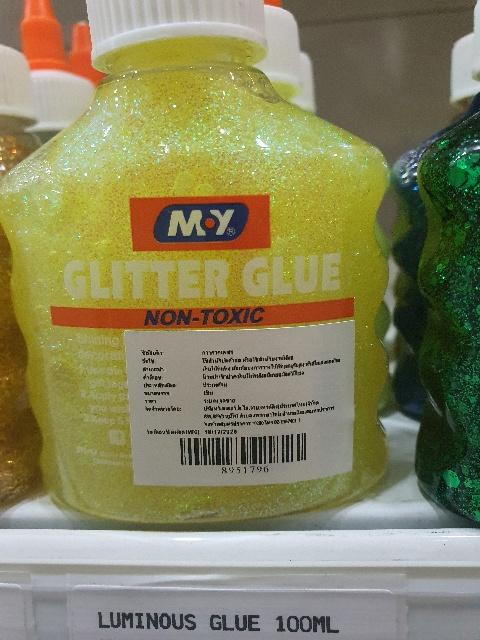Barcode: (174, 434, 314, 477)
